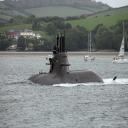submarine: (26, 28, 118, 87)
